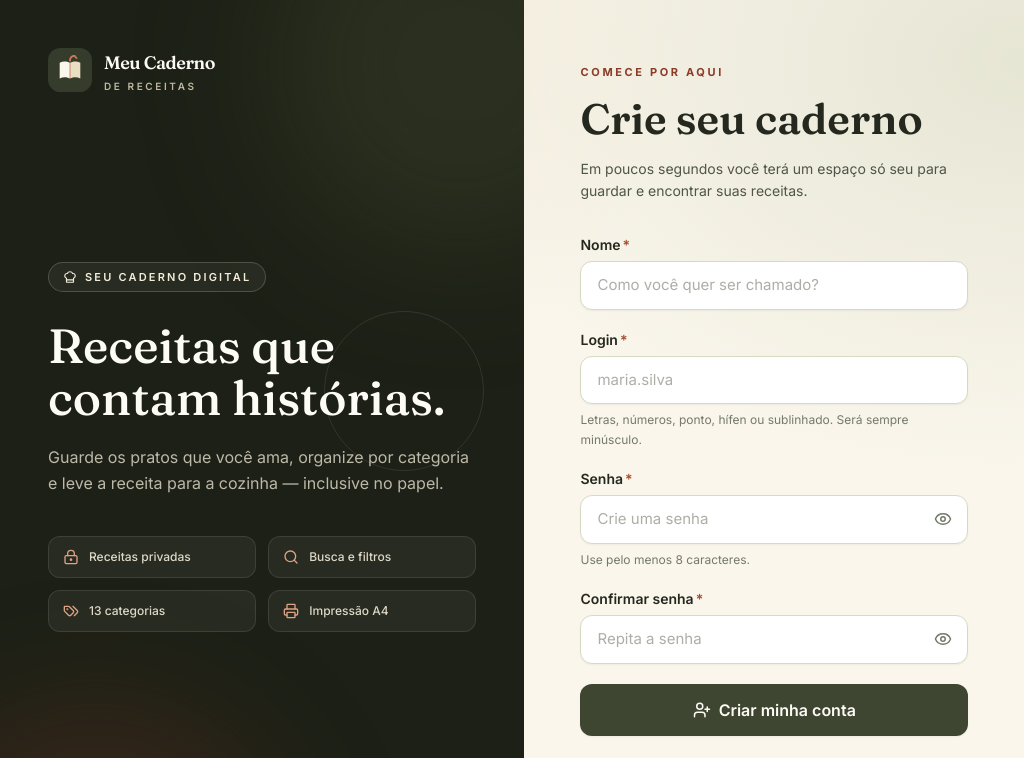
Test: RegisterPage › shows the friendly throttling message returned by the API
Type "Maria Silva" into the field labelled "Nome" at (774, 285), box [580,261,968,310]
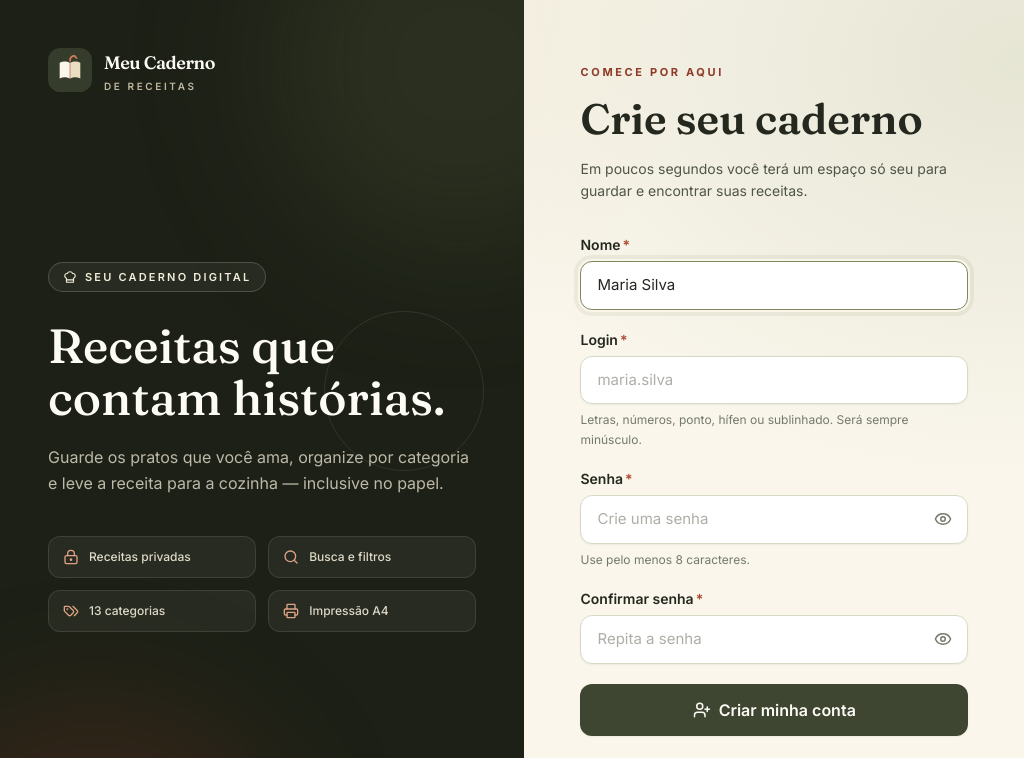
Type "maria" into the field labelled "Login" at (774, 380), box [580,356,968,404]
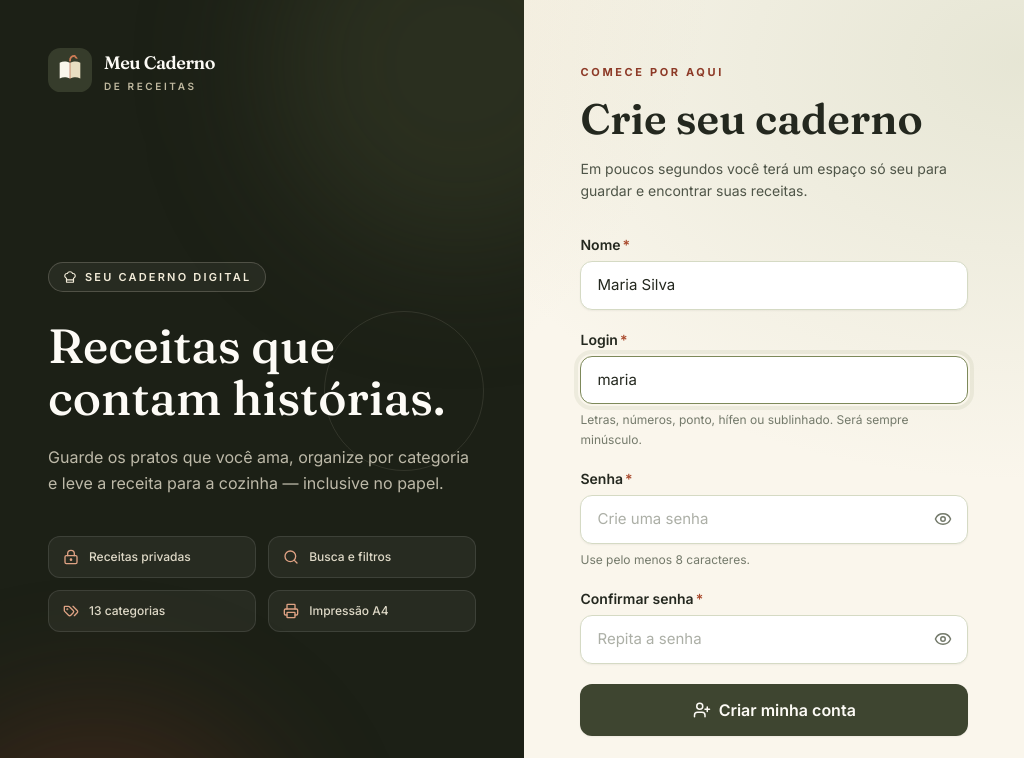
Type "Senha@123" into the password field labelled "Senha" at (774, 519), box [580,495,968,544]
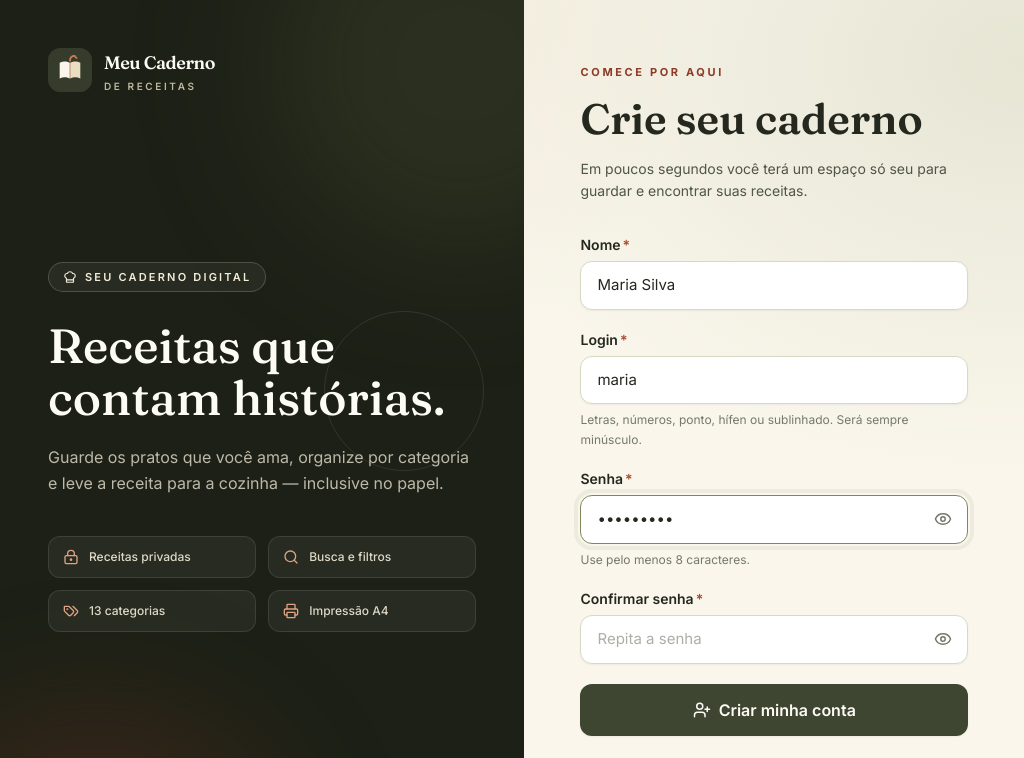
Type "Senha@123" into the password field labelled "Confirmar senha" at (774, 639), box [580,615,968,664]
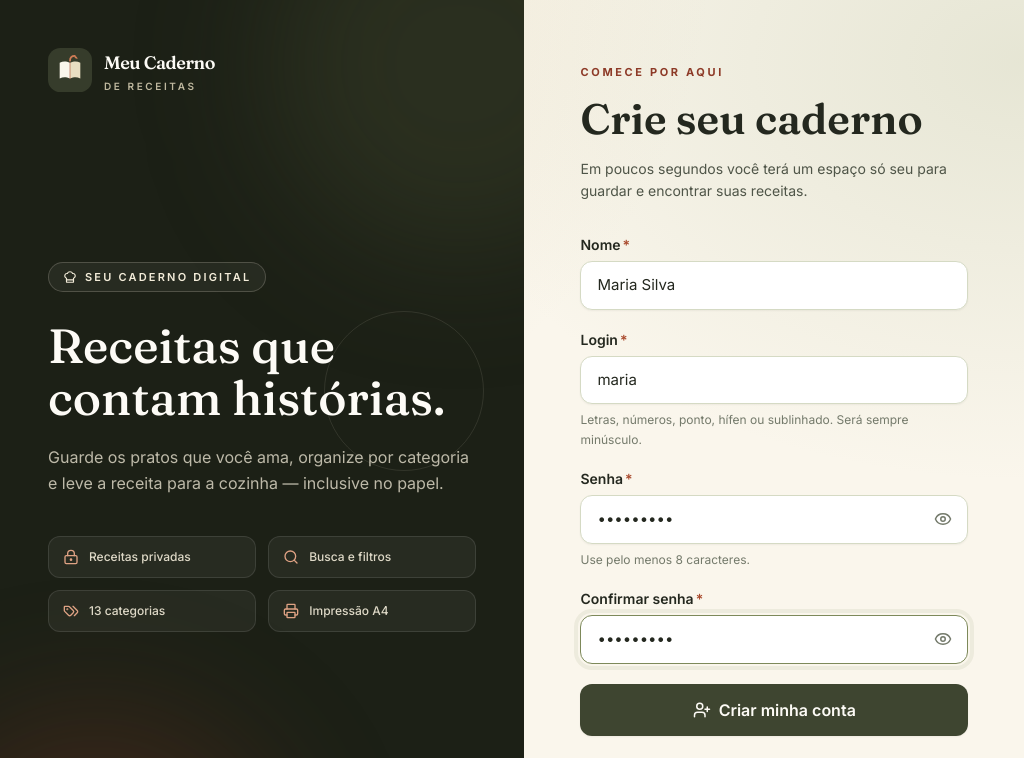
Click the button "Criar minha conta" at (774, 710), box [580,684,968,736]
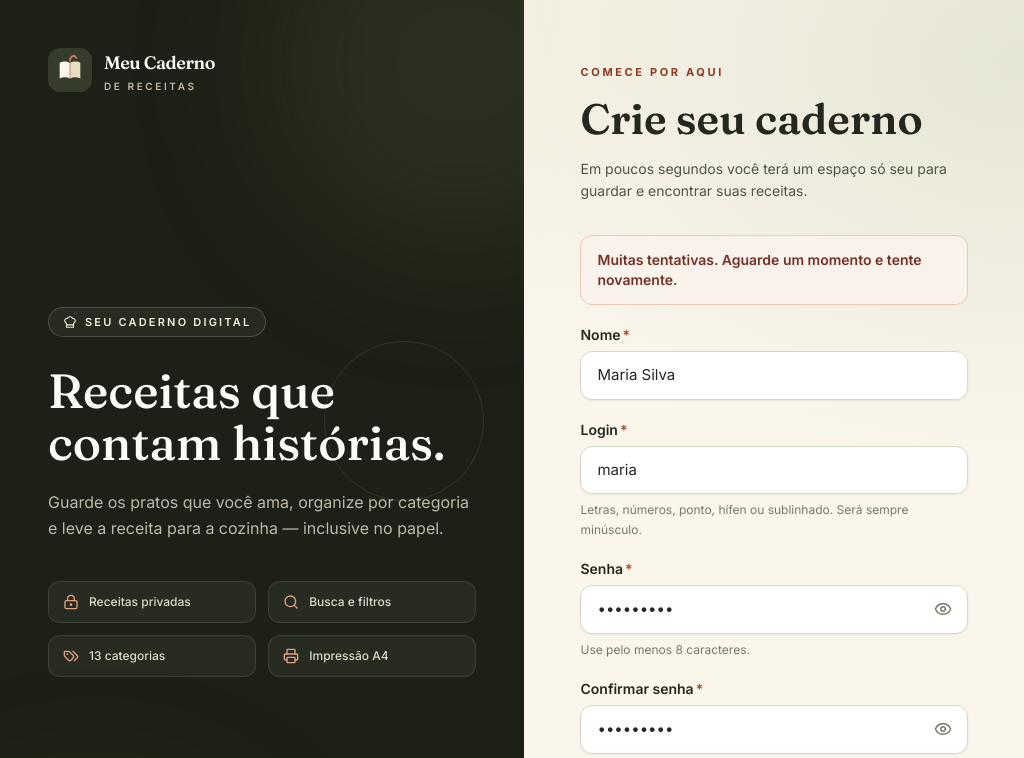
Now the text "Muitas tentativas. Aguarde um momento e tente novamente." is shown, box [598,250,951,290]
